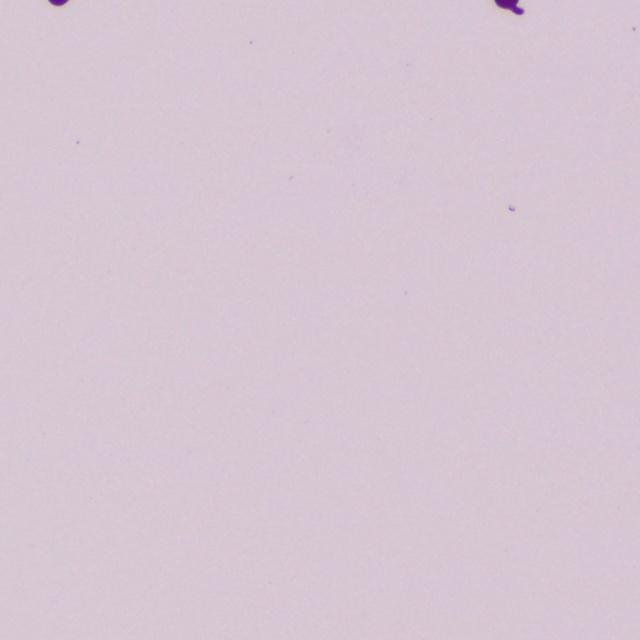viable: (49, 0, 67, 5)
